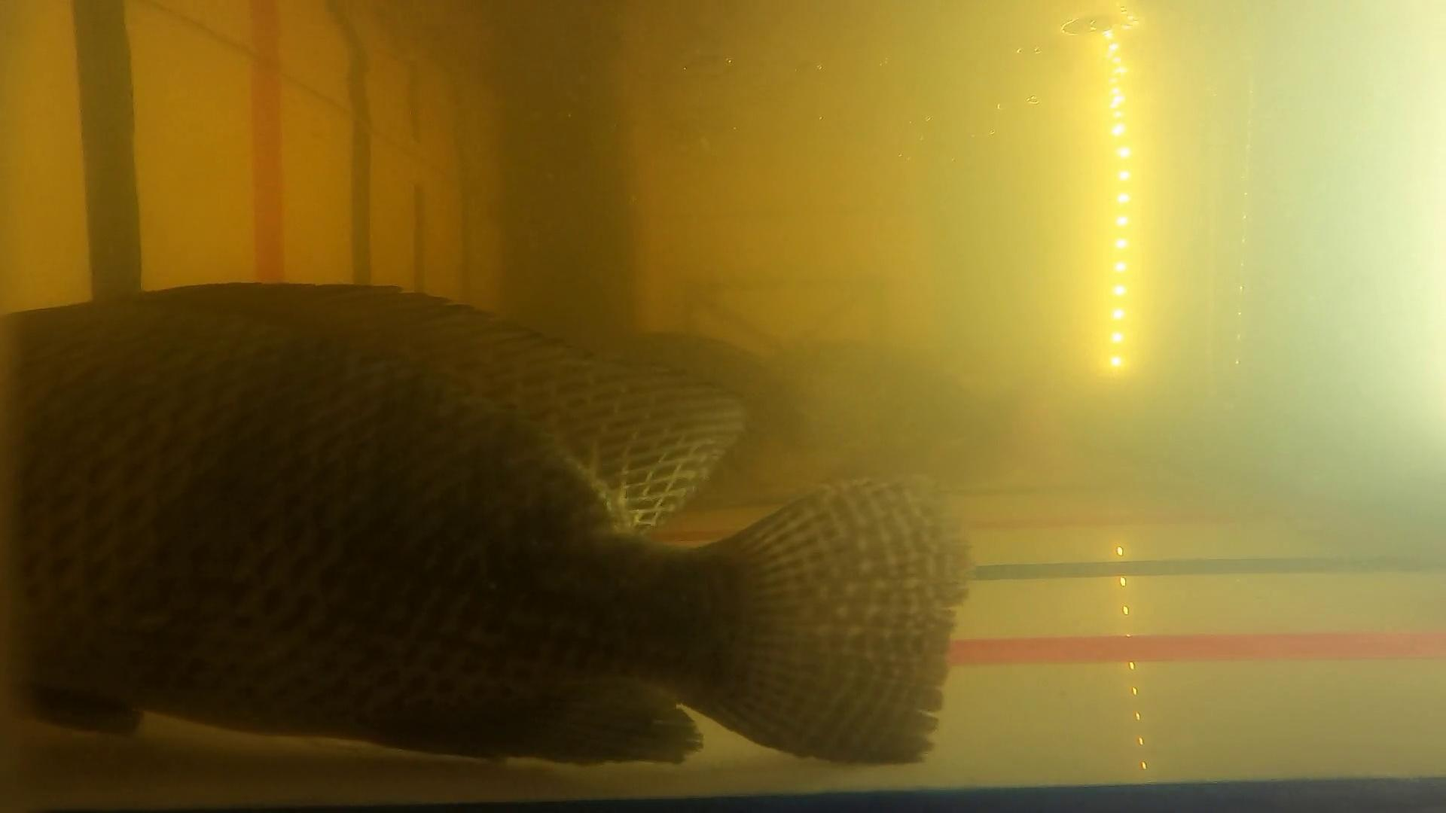Tilapia: (0, 284, 973, 769)
